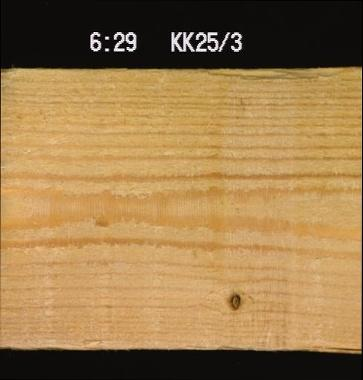dry_knot: (227, 291, 242, 311)
wave: (198, 66, 351, 82)
